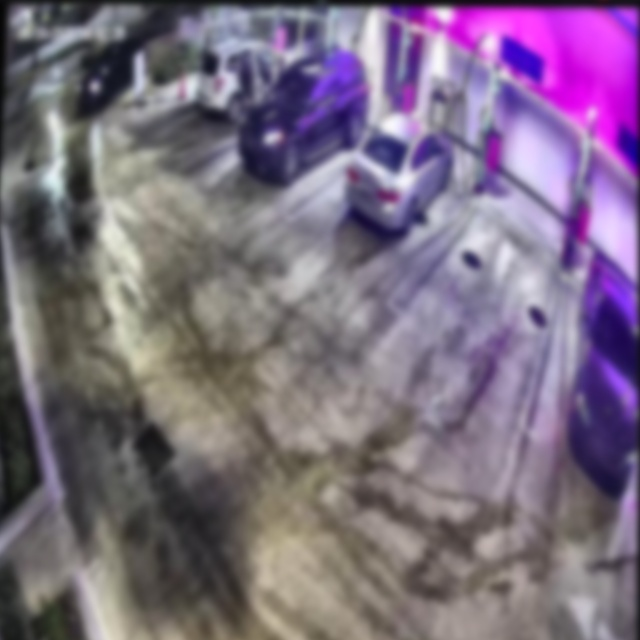Car: (236, 51, 371, 187), (343, 113, 455, 233)
